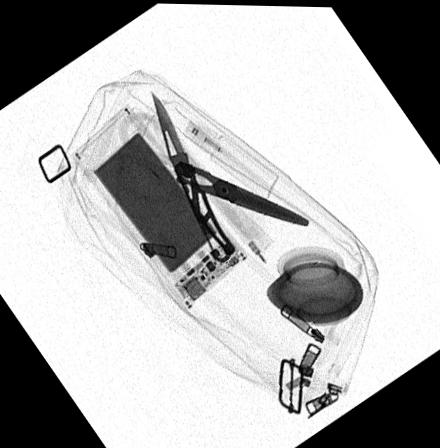Knife: (148, 85, 235, 261)
Powerbank: (70, 103, 249, 307)
Scissors: (112, 104, 309, 224)
